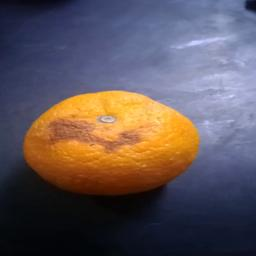Orange Semifresh: (20, 90, 202, 195)
